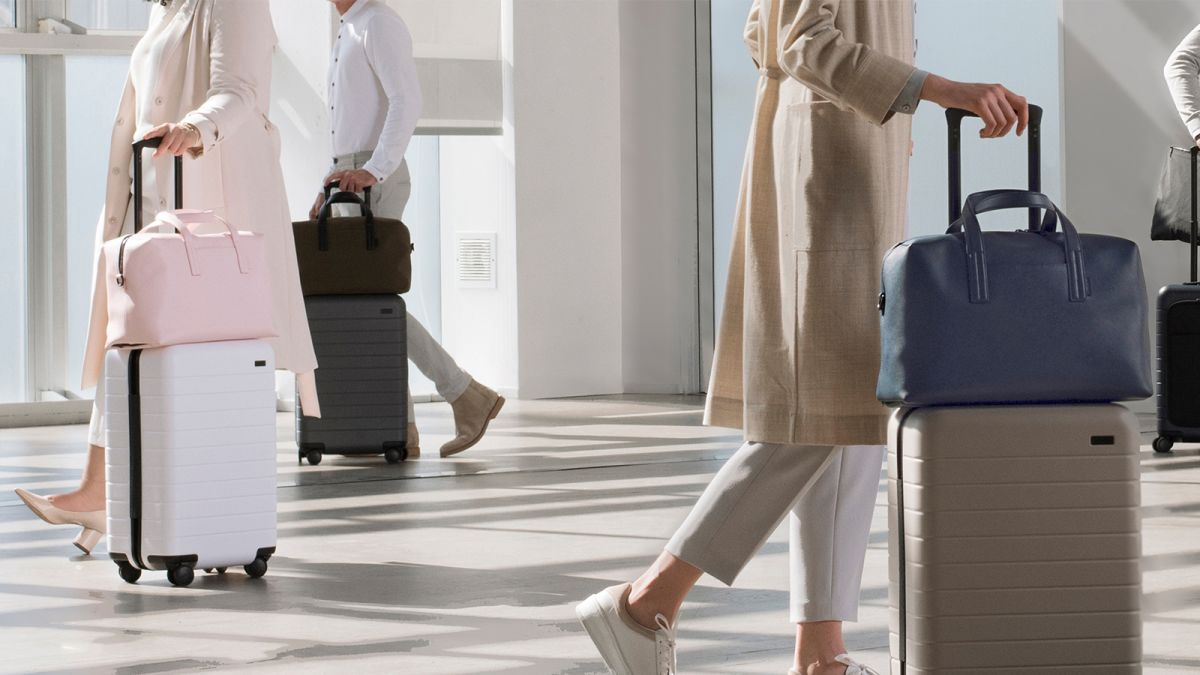luggage: (882, 401, 1150, 673), (95, 342, 287, 591), (300, 298, 411, 467), (1157, 286, 1200, 455)
shoulder bag: (881, 238, 1154, 397), (99, 224, 283, 336), (291, 222, 416, 293), (1163, 149, 1199, 238)
